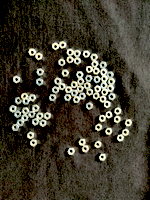nut: (35, 53, 43, 61), (59, 41, 67, 49), (73, 50, 81, 58), (66, 56, 74, 64), (58, 59, 66, 67), (54, 78, 62, 86), (64, 94, 72, 102), (86, 89, 94, 97), (21, 93, 29, 101), (14, 97, 22, 105), (9, 105, 17, 113), (14, 111, 22, 119), (11, 124, 19, 132), (30, 140, 38, 148), (99, 115, 107, 123), (122, 129, 130, 137), (99, 154, 107, 162), (67, 148, 75, 156), (28, 49, 36, 56), (52, 43, 59, 51), (83, 51, 91, 58), (90, 54, 98, 61), (36, 69, 44, 76), (61, 70, 69, 77), (13, 76, 20, 84), (36, 78, 43, 86), (91, 61, 99, 68), (86, 66, 93, 74), (100, 69, 108, 76), (76, 72, 84, 79), (101, 76, 109, 83), (94, 76, 101, 84), (108, 79, 116, 86), (59, 83, 66, 91), (52, 86, 59, 94), (49, 95, 57, 102), (77, 79, 85, 86), (71, 81, 78, 89), (65, 87, 73, 94), (84, 82, 91, 90), (71, 90, 79, 97), (94, 86, 102, 93), (101, 89, 109, 96), (73, 97, 81, 104), (109, 93, 116, 101), (104, 101, 111, 109), (28, 95, 36, 102), (32, 105, 40, 112), (22, 108, 30, 115), (21, 115, 29, 122), (28, 111, 36, 118), (36, 113, 44, 120), (16, 120, 24, 127), (27, 132, 34, 140), (106, 111, 113, 119), (114, 116, 121, 124), (125, 120, 133, 127), (95, 124, 102, 132), (105, 128, 113, 135), (117, 135, 125, 142), (95, 141, 102, 149), (67, 49, 74, 56), (74, 58, 81, 65), (100, 62, 107, 69), (93, 68, 100, 75), (107, 72, 114, 79), (77, 86, 84, 93), (101, 82, 108, 89), (93, 93, 100, 100), (79, 93, 86, 100), (86, 103, 93, 110), (100, 96, 107, 103), (44, 113, 51, 120), (32, 119, 39, 126), (115, 108, 122, 115), (79, 139, 86, 146), (82, 146, 89, 153), (85, 76, 93, 82), (107, 86, 115, 92), (22, 99, 30, 105)
